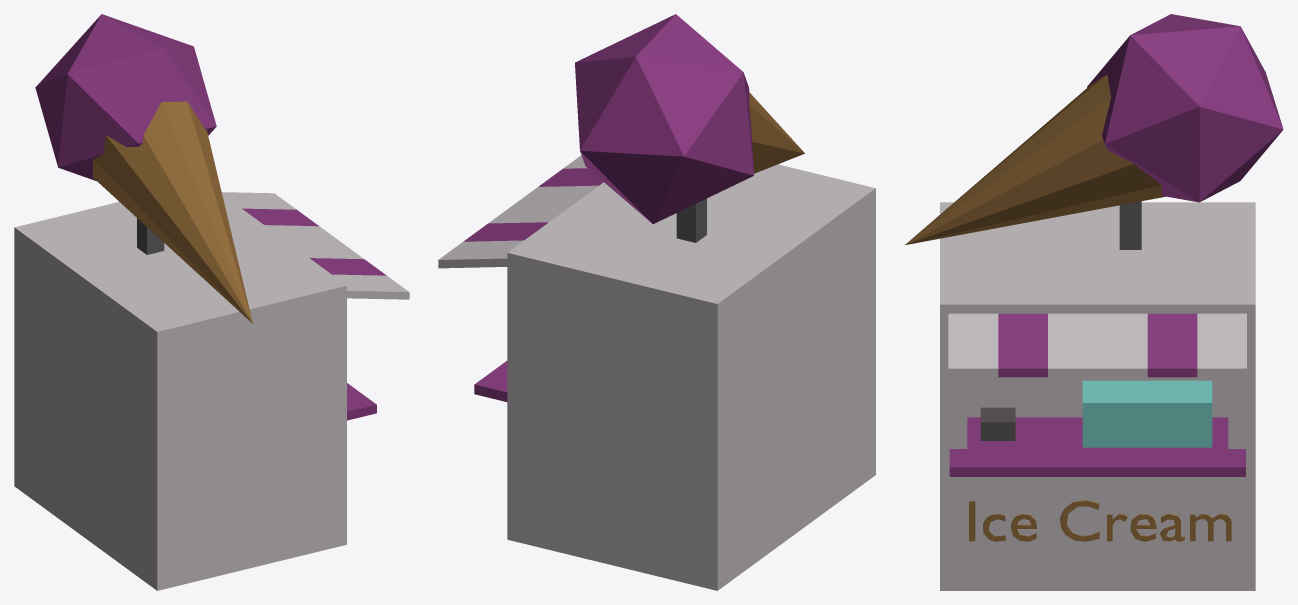
The model's file is IcereamShop.fbx.
The picture shows the model from 3 angles, left to right: view 1: azimuth 30°, elevation 25°; view 2: azimuth 150°, elevation 25°; view 3: azimuth 270°, elevation 25°; orthographic projection. The views are drawn at different scales.
Visible parts, largest first — view 1: Cube, Cube.002, Cube.004; view 2: Cube, Cube.002, Cube.004; view 3: Cube, Cube.002, Cube.004, Cube.001, Cube.003.
Boxes of the visible parts, bbox=[...] form: Cube: bbox=[14, 194, 376, 590]; Cube.002: bbox=[35, 14, 252, 323]; Cube.004: bbox=[221, 192, 409, 299]; Cube: bbox=[474, 164, 875, 590]; Cube.002: bbox=[575, 14, 804, 242]; Cube.004: bbox=[438, 155, 603, 268]; Cube: bbox=[940, 202, 1255, 590]; Cube.002: bbox=[905, 14, 1283, 249]; Cube.004: bbox=[948, 313, 1246, 377]; Cube.001: bbox=[1082, 380, 1212, 447]; Cube.003: bbox=[980, 407, 1015, 440].
Size of the model in its own units: 184 by 315 by 214.
